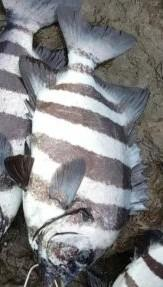fish: (4, 7, 149, 286)
